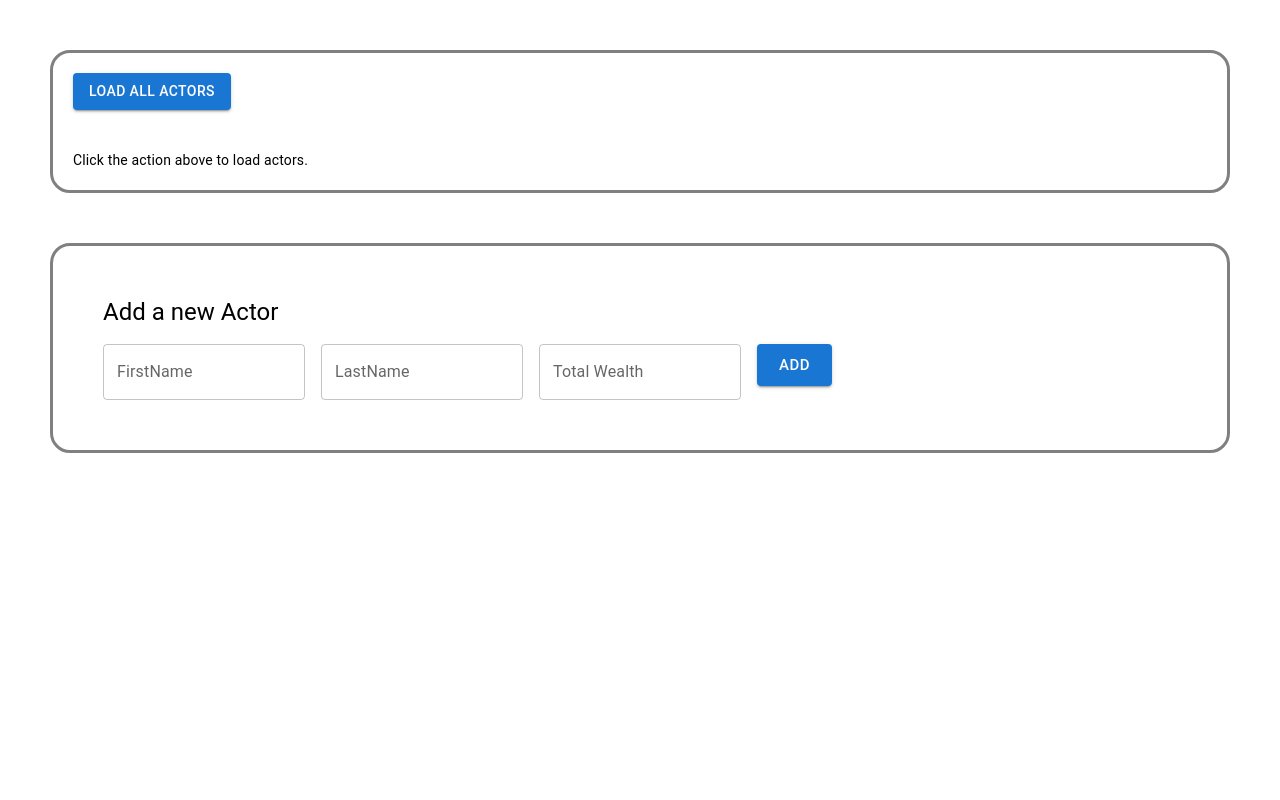
Scenario: Actor Page tests › Add actor test
Expected: the text "Add a new Actor" is shown, [103,298,278,326]
Expected: the 2nd field is shown, [321,344,523,400]
Type "Fastest" into the field labelled "FirstName" at (204, 372), box [103,344,305,400]
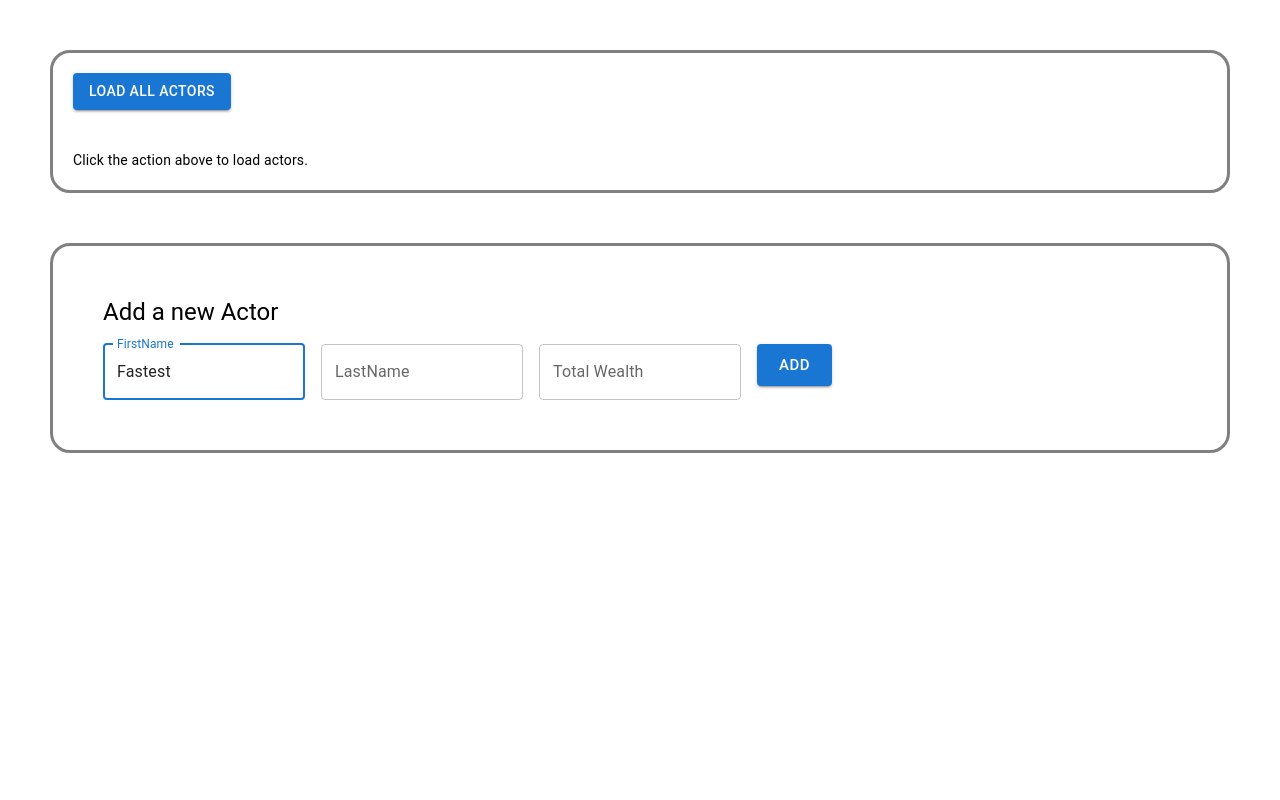
Type "Four" into the 2nd field at (422, 372), box [321,344,523,400]
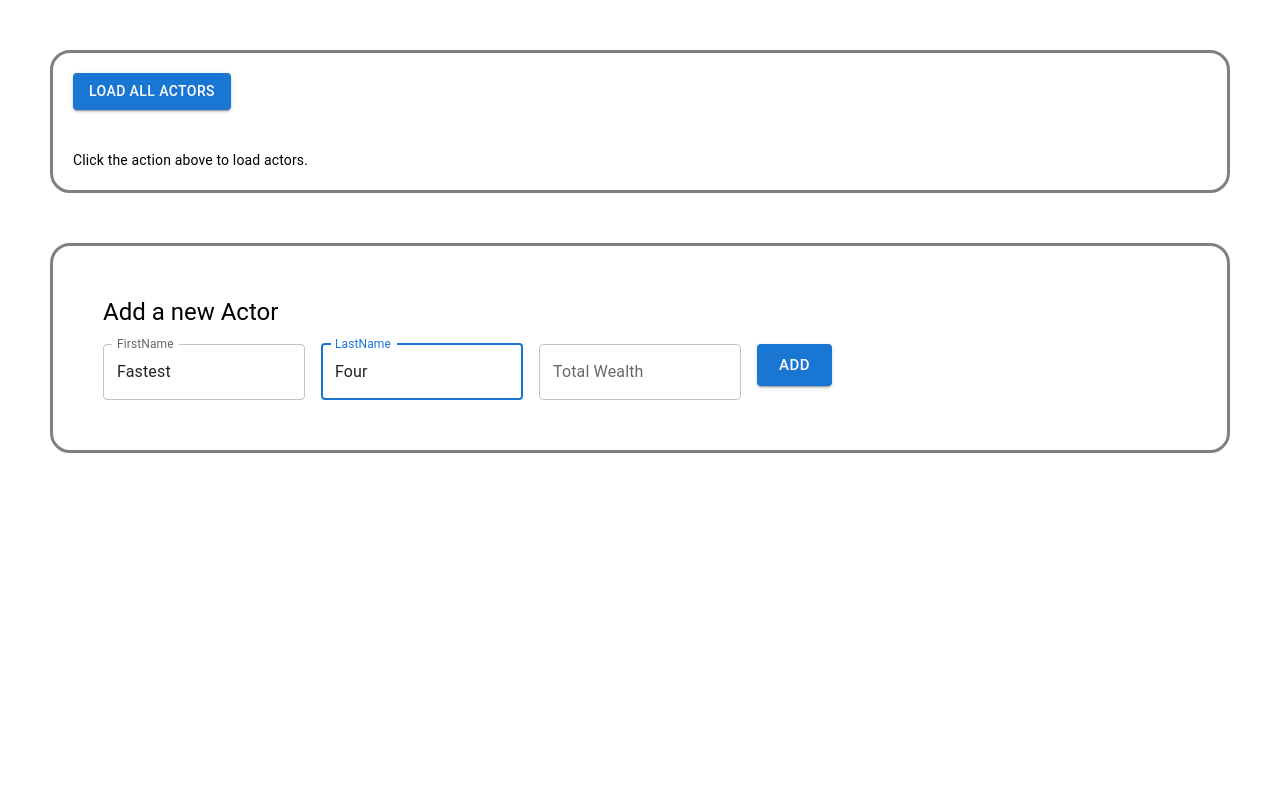
Type "500" into the number field at (640, 372), box [539,344,741,400]
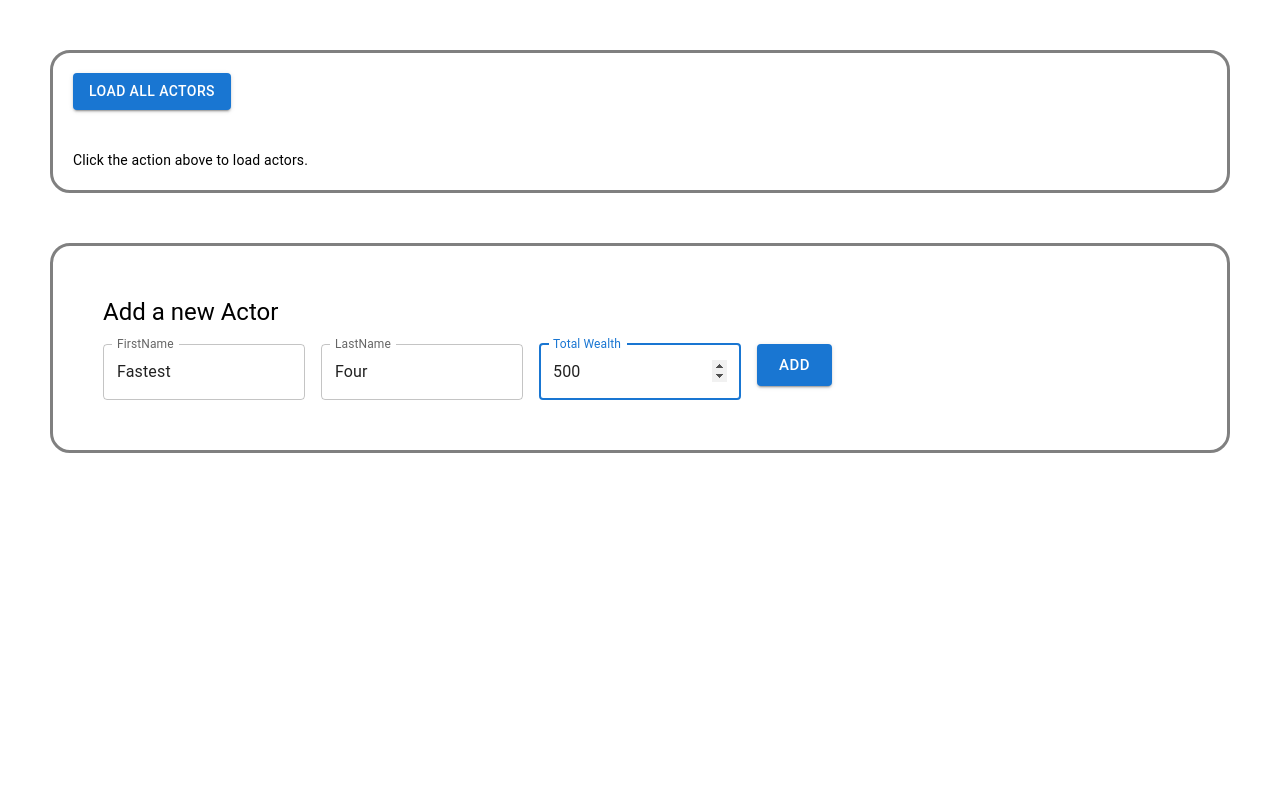
Click the button with test id "add_actor_button" at (794, 365), box [757,344,832,386]
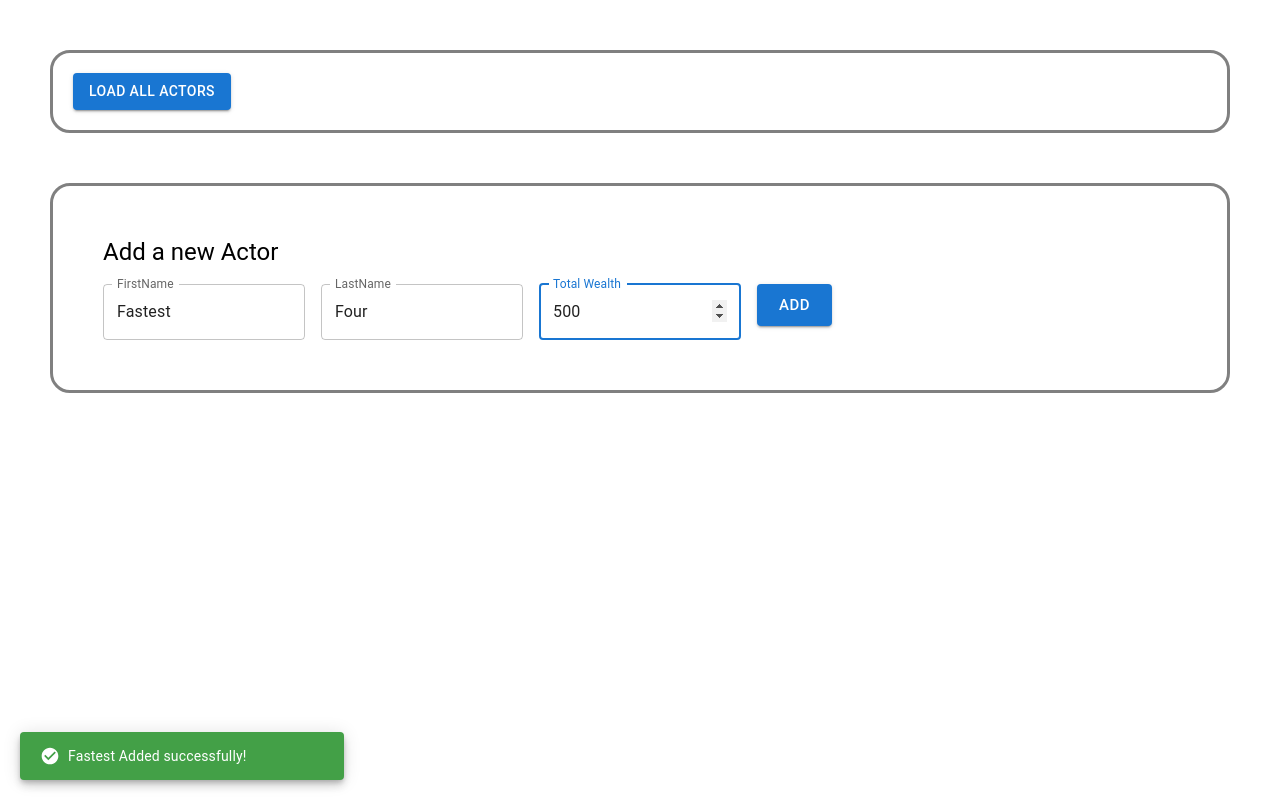
Now the text "Fastest Added successfully!" is shown, box [40,746,246,766]
